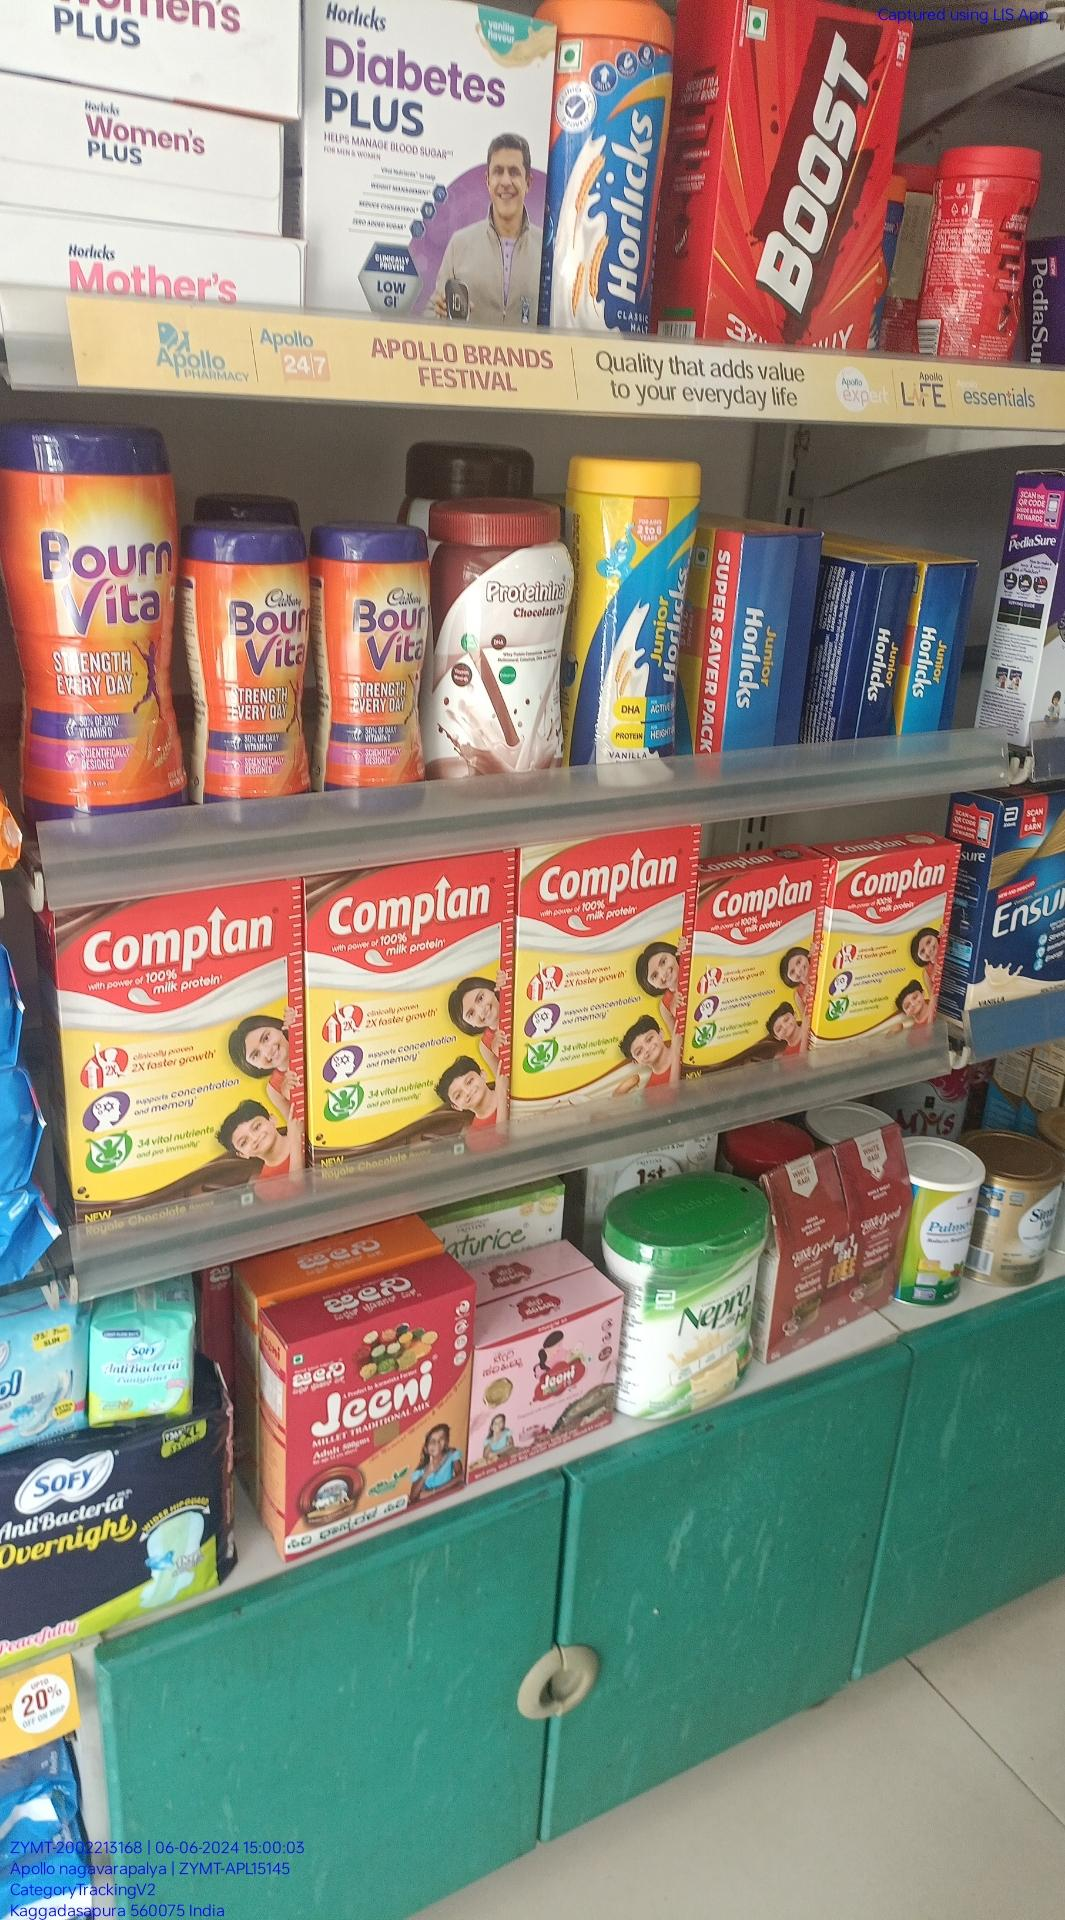COMPLAN_CHOCOLATE_1_KG_PACK: (51, 879, 300, 1243), (310, 843, 514, 1182)
COMPLAN_CHOCOLATE_200_GMS_PACK: (696, 849, 826, 1077)
COMPLAN_KESAR_BADAM_200_GMS_PACK: (833, 843, 954, 1070)
HORLICK_CLASSIC_MALT_500_G_JAR: (546, 0, 678, 346)
